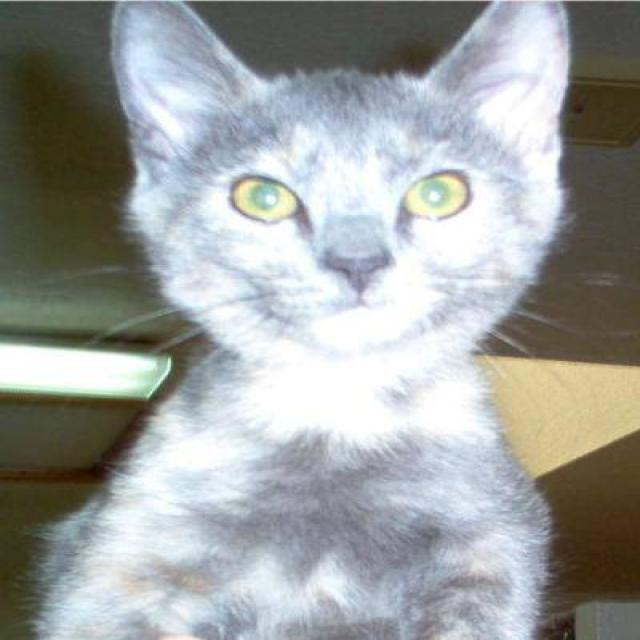cat: (22, 0, 573, 639)
